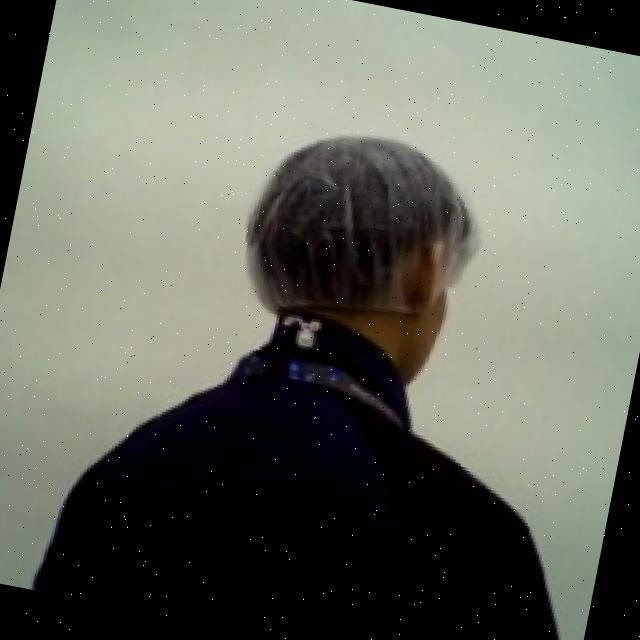gloves: (227, 106, 502, 356)
